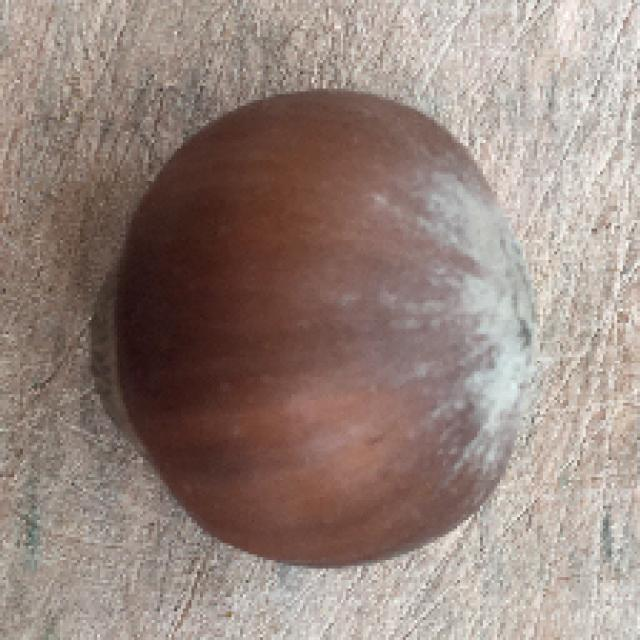damagedHazelnut: (64, 68, 544, 574)
